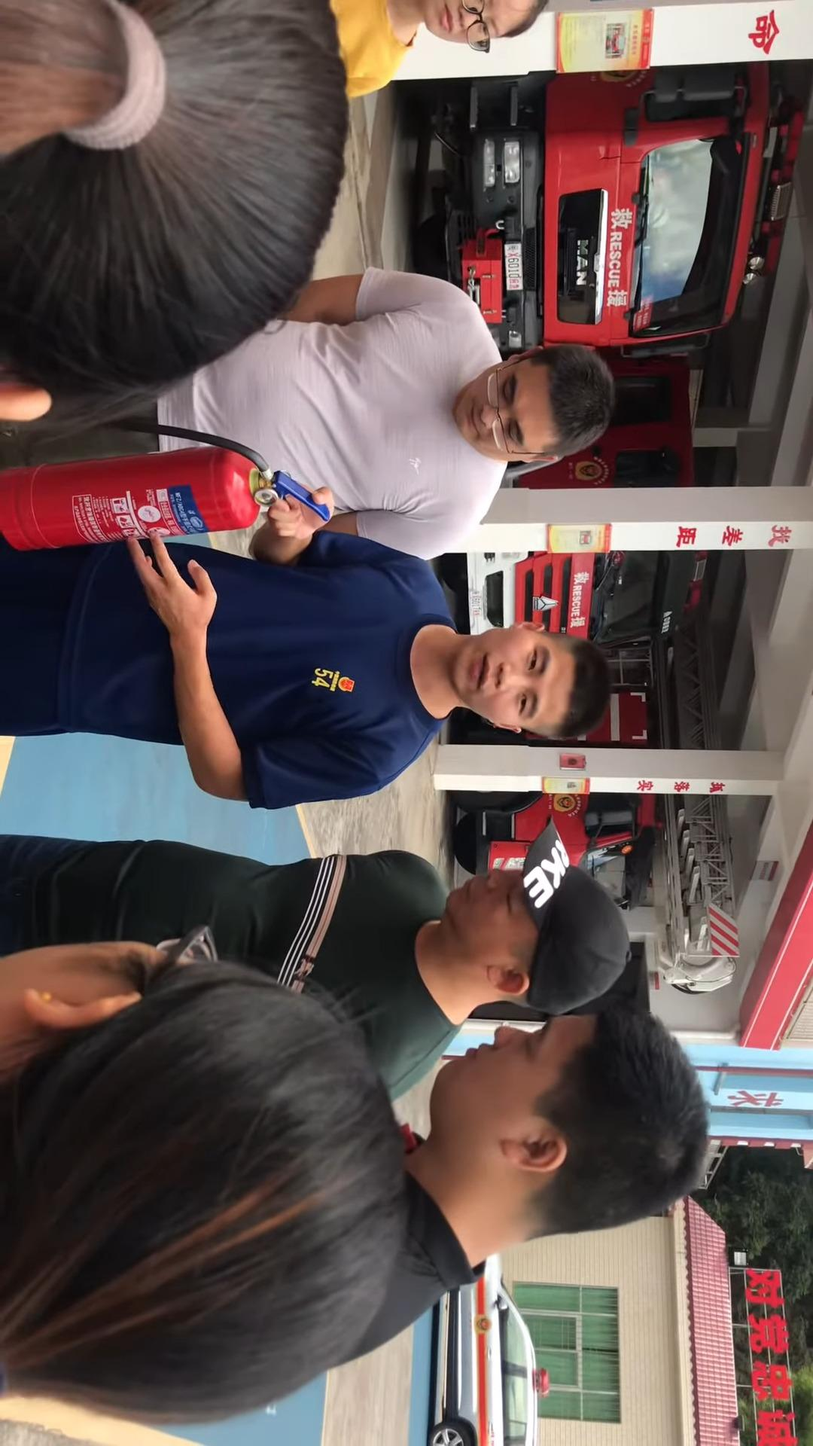FireExtinguisher: (0, 423, 288, 578)
not: (498, 524, 813, 1034), (467, 50, 813, 449)
